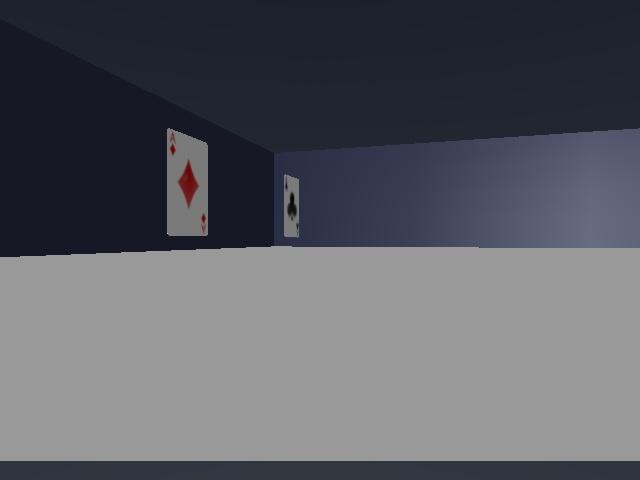club: (284, 175, 299, 237)
diamond: (167, 129, 207, 235)
